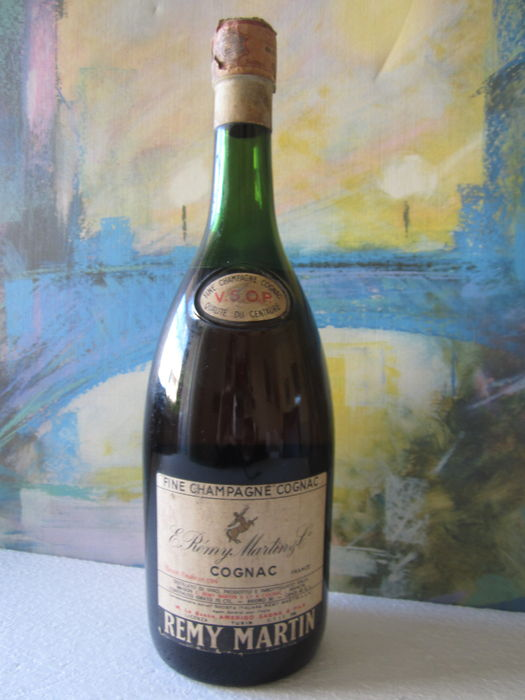Remy Martin: (126, 4, 357, 700)
